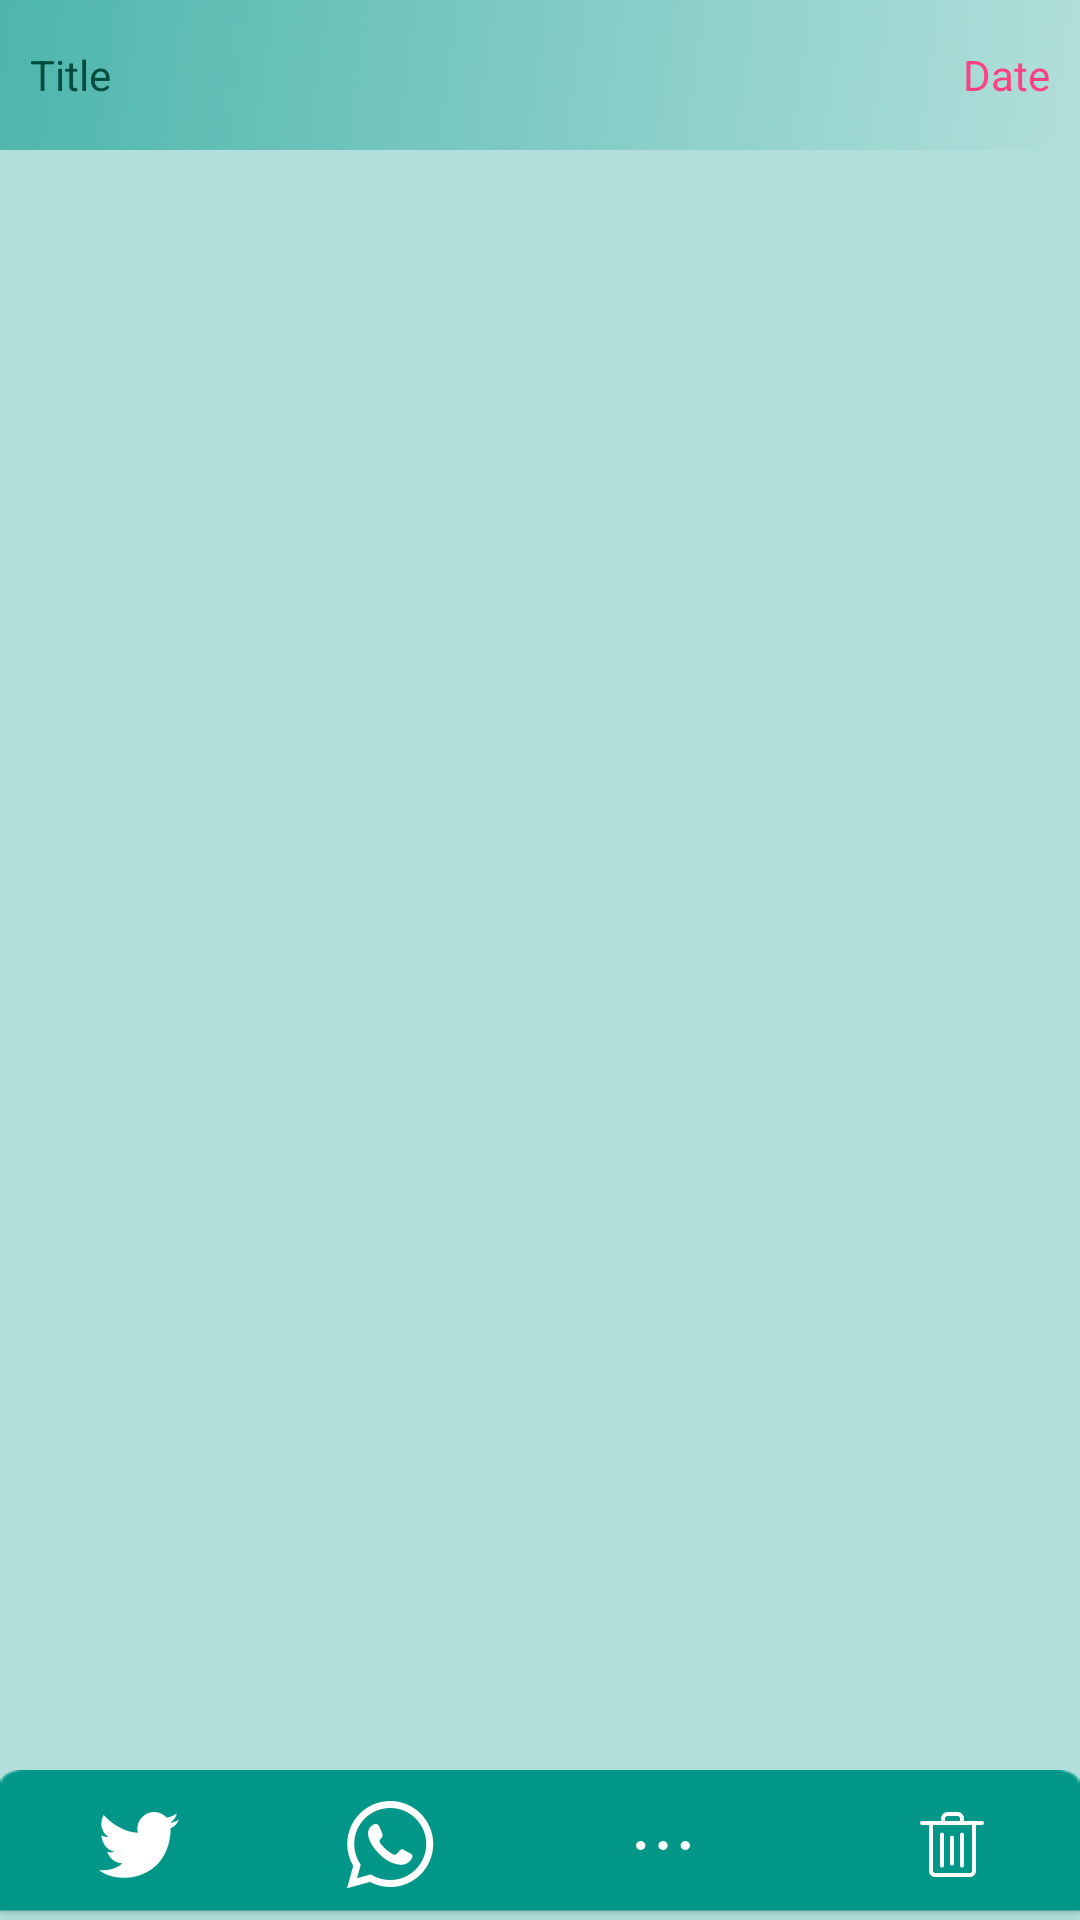

Point at icon controls on the screen. Image size 1080x1920, points as [x,y].
delete: [952,1844]
more: [663,1845]
